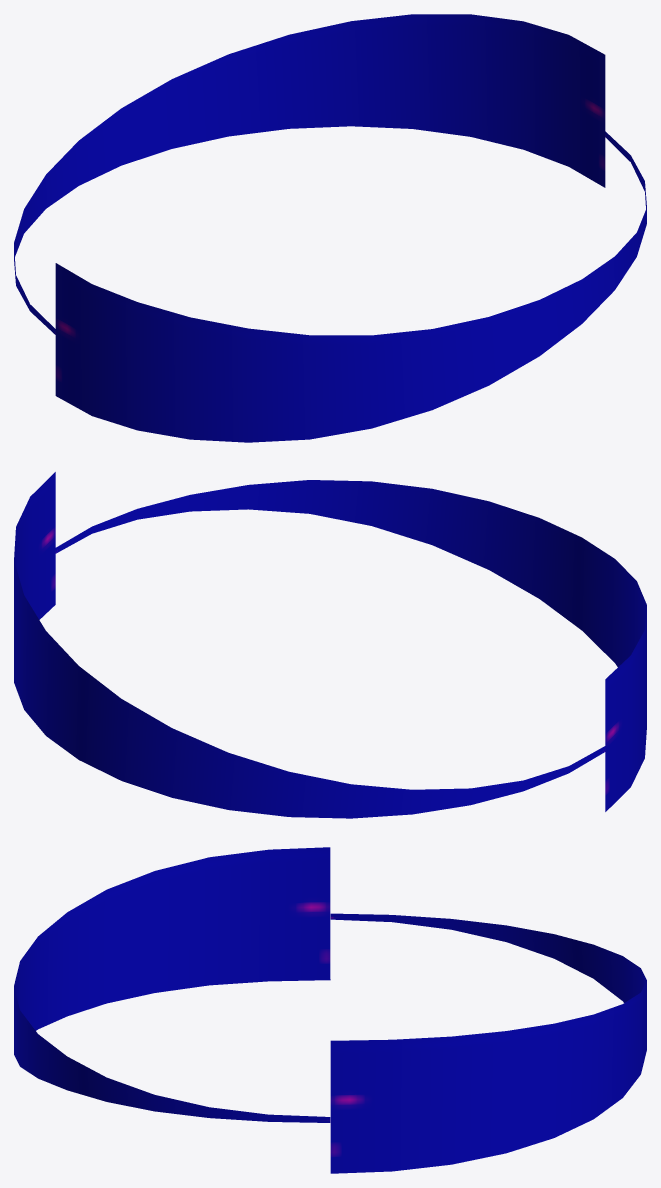
The model's file is p_mesh_drillspawner_digswirl.fbx.
The picture shows the model from 3 angles, top to bottom: view 1: azimuth 30°, elevation 25°; view 2: azimuth 150°, elevation 25°; view 3: azimuth 270°, elevation 25°; orthographic projection.
Parts seen in each view (by area): view 1: Cylinder; view 2: Cylinder; view 3: Cylinder.
Boxes of the visible parts, left/top/right/bottom form: Cylinder: left=14, top=14, right=646, bottom=442; Cylinder: left=14, top=472, right=646, bottom=818; Cylinder: left=14, top=847, right=646, bottom=1173.
Size of the model in its own units: 2.55 by 0.9197 by 2.55.
